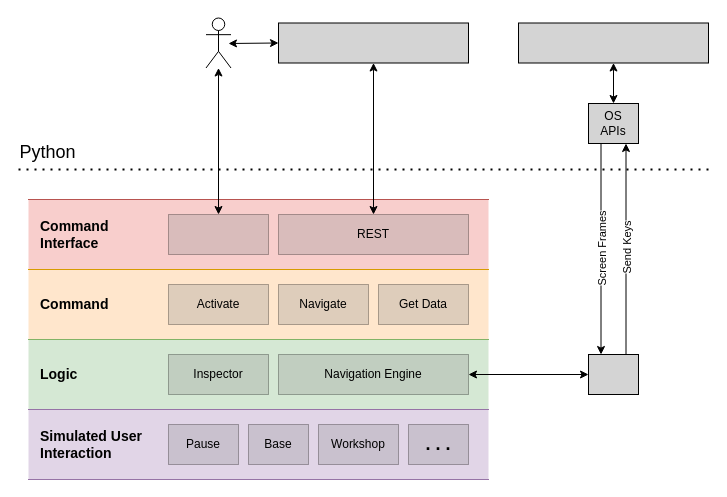
Some shapes in this 727 by 497 pixel diagram are drawn without their labels. Here are the shapes that lost their labels. From the top down, the centre of each, then its label:
point 373,42: TS Front End
point 613,42: SoD2 Running Game
point 218,234: REPL
point 613,374: I/O
